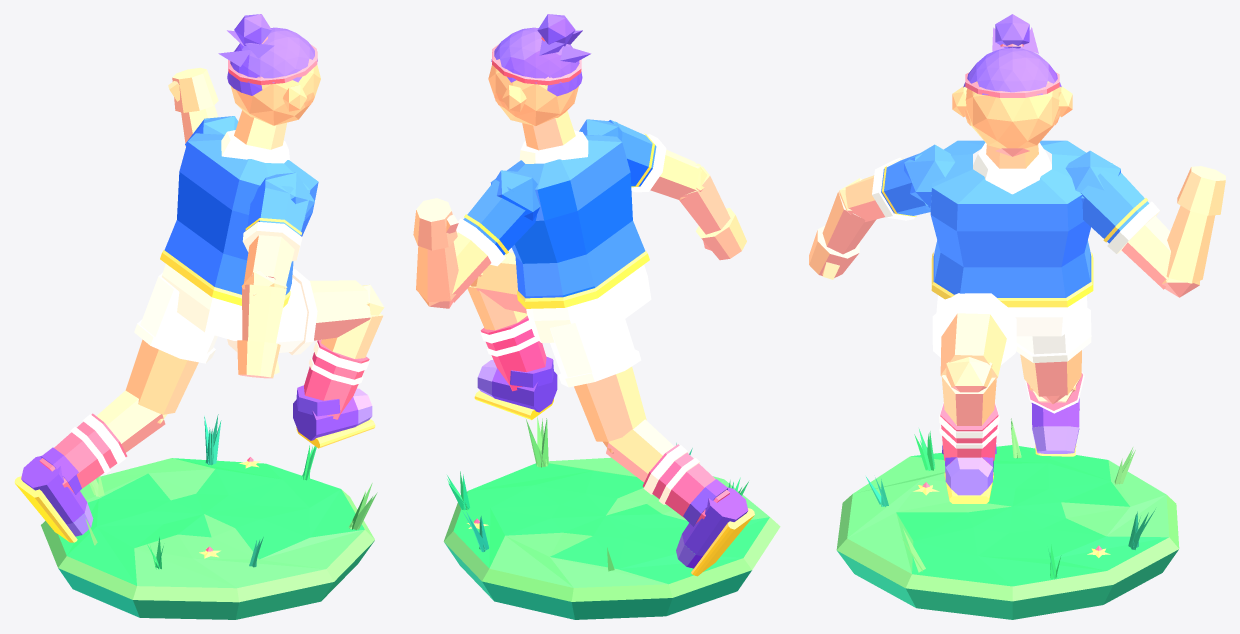
File: player.glb
The picture shows the model from 3 angles, left to right: view 1: azimuth 30°, elevation 25°; view 2: azimuth 150°, elevation 25°; view 3: azimuth 270°, elevation 25°; orthographic projection. The views are drawn at different scales.
Visible parts, largest first — view 1: Grass, Skin, Shirt, CreamShade, CreamSun, Boots, Socks, Hair, Soles, SkinShade; view 2: Grass, Shirt, Skin, CreamShade, SkinShade, Boots, Socks, Hair, Soles, CreamSun; view 3: Grass, Shirt, Skin, CreamSun, SkinShade, Hair, Boots, Socks, Soles, CreamShade.
Boxes of the visible parts, x1,y1,x2,y2 form: Grass: (41, 414, 377, 619); Skin: (96, 65, 384, 443); Shirt: (164, 116, 318, 294); CreamShade: (70, 132, 338, 473); CreamSun: (70, 130, 369, 473); Boots: (21, 385, 372, 536); Socks: (39, 36, 369, 551); Hair: (218, 14, 317, 95); Soles: (14, 218, 375, 558); SkinShade: (121, 77, 370, 452); Grass: (443, 416, 780, 619); Shirt: (463, 119, 656, 298); Skin: (413, 59, 746, 473); CreamShade: (456, 132, 699, 504); SkinShade: (417, 118, 741, 482); Boots: (477, 356, 748, 568); Socks: (474, 36, 729, 523); Hair: (491, 14, 590, 96); Soles: (464, 133, 754, 576); CreamSun: (456, 130, 699, 470); Grass: (836, 418, 1179, 619); Shirt: (881, 140, 1149, 297); Skin: (809, 81, 1225, 425); CreamSun: (872, 142, 1159, 448); SkinShade: (819, 148, 1199, 425); Hair: (963, 14, 1061, 94); Boots: (942, 398, 1079, 495); Socks: (922, 44, 1102, 550); Soles: (882, 166, 1148, 557); CreamShade: (982, 154, 1159, 447).
Size of the model in its own units: 1.32 by 2.14 by 1.45.
